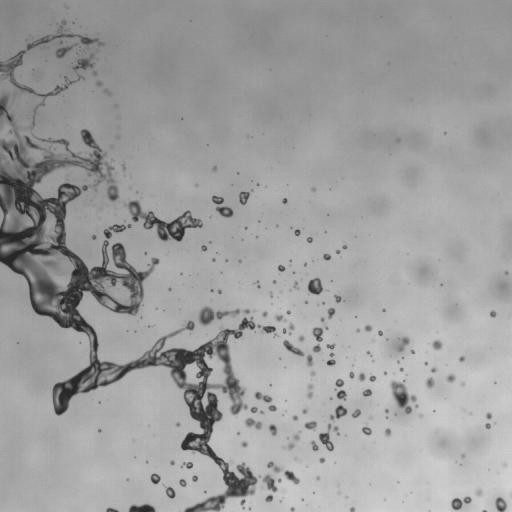droplet: (318, 424, 339, 451), (451, 496, 471, 511), (329, 405, 347, 421), (307, 277, 322, 295), (397, 336, 409, 352), (245, 418, 261, 429), (495, 497, 506, 511), (239, 191, 249, 204), (283, 323, 294, 334), (304, 421, 317, 430), (432, 339, 442, 350), (150, 473, 160, 484), (165, 487, 175, 498), (327, 352, 335, 365), (362, 425, 371, 435), (275, 314, 286, 322), (426, 377, 434, 388), (269, 424, 277, 435), (306, 354, 313, 366), (446, 373, 455, 382), (327, 308, 335, 318), (311, 440, 318, 451), (362, 389, 371, 397), (352, 409, 361, 417), (474, 488, 482, 497), (181, 462, 192, 468), (326, 343, 335, 350), (323, 253, 331, 260), (334, 295, 342, 302), (358, 373, 365, 381), (384, 428, 391, 436), (265, 494, 272, 502), (278, 264, 285, 271), (179, 479, 186, 486), (364, 325, 372, 331), (268, 405, 276, 411), (75, 75, 82, 81), (298, 335, 305, 341), (250, 406, 257, 412), (293, 281, 298, 289), (294, 229, 300, 235), (201, 245, 207, 251), (369, 375, 375, 381), (241, 441, 247, 447), (319, 457, 325, 463), (490, 310, 495, 317), (349, 371, 354, 378), (486, 412, 491, 419), (104, 89, 110, 94), (262, 311, 267, 317), (459, 356, 465, 361), (430, 367, 436, 372), (485, 422, 490, 428), (192, 475, 197, 481), (96, 81, 101, 86), (212, 166, 217, 171), (282, 198, 287, 203), (307, 237, 312, 242), (254, 281, 259, 286), (310, 371, 315, 376), (302, 409, 307, 414), (292, 415, 297, 420), (367, 350, 371, 356), (349, 507, 355, 511), (92, 71, 97, 75), (378, 330, 382, 335), (170, 460, 174, 465), (122, 164, 125, 170), (92, 235, 96, 239), (342, 245, 346, 249), (286, 310, 290, 314), (399, 367, 403, 371), (176, 422, 180, 426), (290, 507, 294, 511), (312, 187, 315, 191), (336, 250, 340, 253), (270, 293, 273, 297), (212, 258, 215, 261), (218, 290, 221, 293), (411, 350, 414, 353), (385, 409, 388, 412), (419, 414, 422, 417), (461, 454, 464, 457), (503, 463, 506, 466), (273, 280, 275, 283), (168, 288, 171, 290), (356, 329, 359, 331), (424, 362, 427, 364), (461, 383, 464, 385), (260, 411, 263, 413), (316, 477, 319, 479), (239, 260, 241, 262), (304, 263, 306, 265)
ligament: (0, 20, 281, 511), (122, 200, 202, 241), (198, 306, 250, 325), (389, 380, 418, 414), (267, 461, 299, 484), (312, 317, 327, 352), (212, 195, 233, 217), (73, 53, 94, 70), (283, 340, 304, 356), (55, 43, 77, 58), (335, 378, 346, 401), (128, 503, 155, 511), (286, 434, 299, 450), (254, 392, 272, 402), (306, 383, 313, 398), (106, 507, 118, 511), (482, 510, 486, 511), (510, 493, 511, 496)
